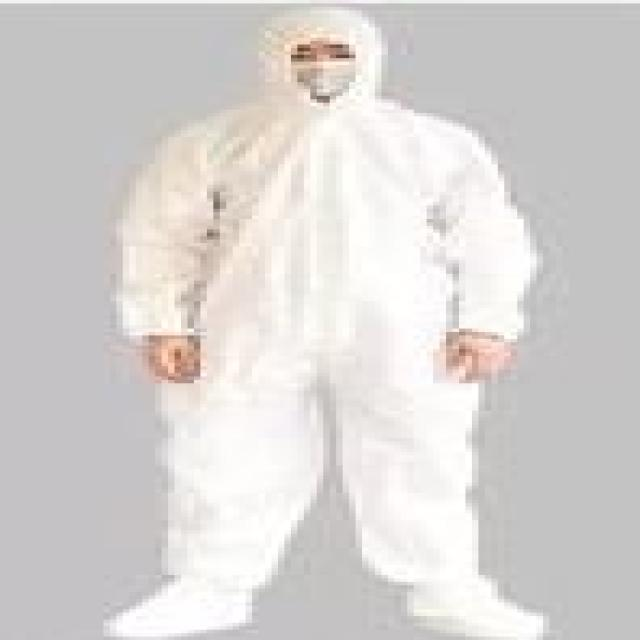Coverall: (26, 7, 582, 640)
Mask: (285, 51, 369, 103)
